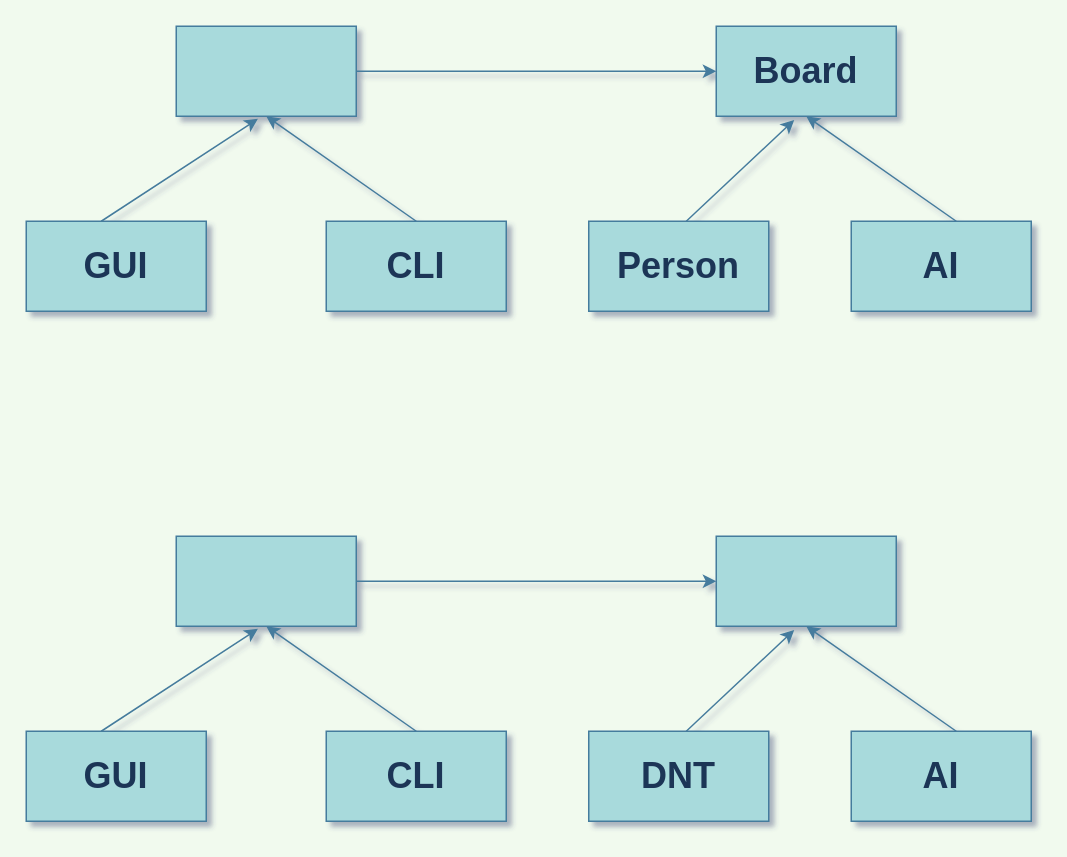
Some shapes in this 1067 by 857 pixel diagram are drawn without their labels. Each missing label, with the centre of its shape:
Controler: the point at 265,70
Controller: the point at 265,580
Engine: the point at 805,580
